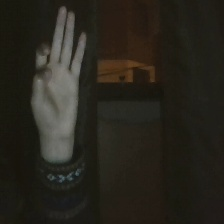F: (19, 1, 93, 143)
